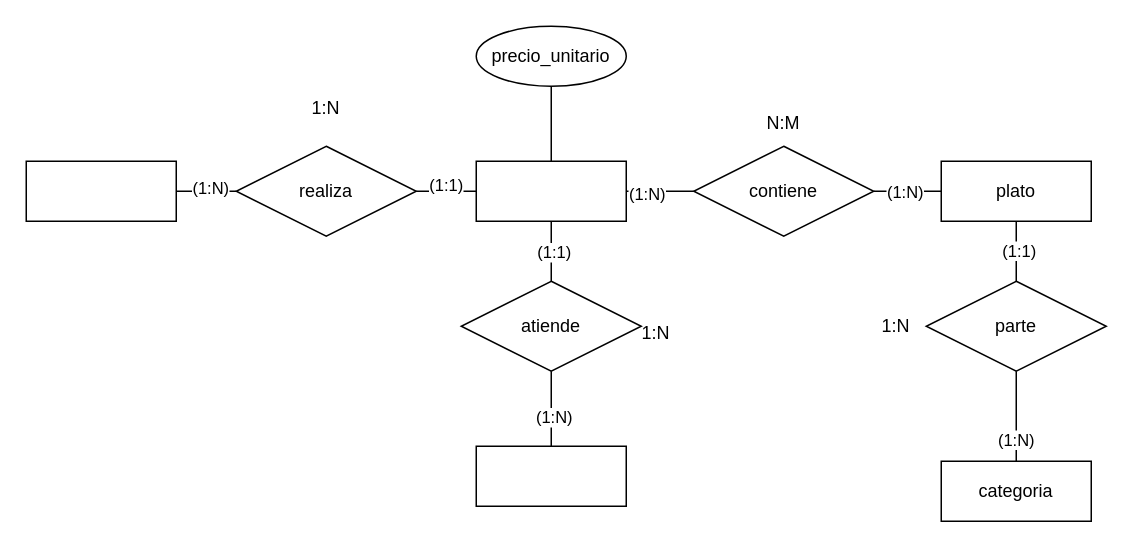
Image size: 1133x548. Some labels were removed from this diagram. The shapes that lost their labels are listed below. From the top down, each one's centre as x and y in pixels, then its label:
At point (100, 190): "cliente".
At point (550, 190): "pedido".
At point (550, 475): "mesero".
